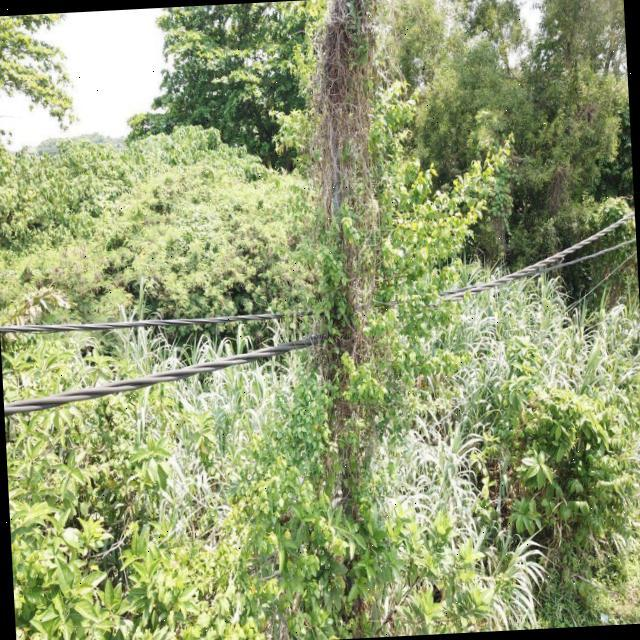critical vegetation: (282, 0, 425, 595)
